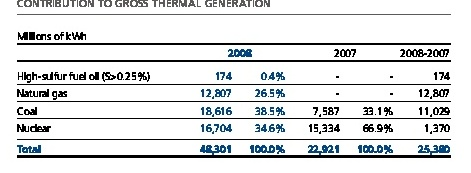table: (0, 0, 471, 173)
